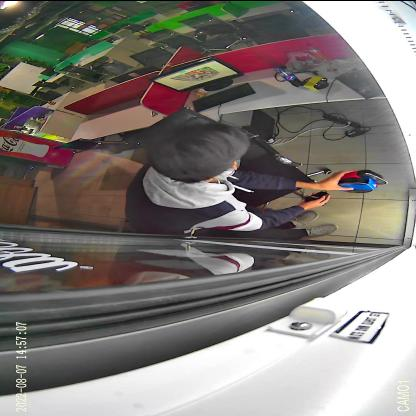blue: (338, 174, 377, 192)
red: (340, 168, 390, 184)
